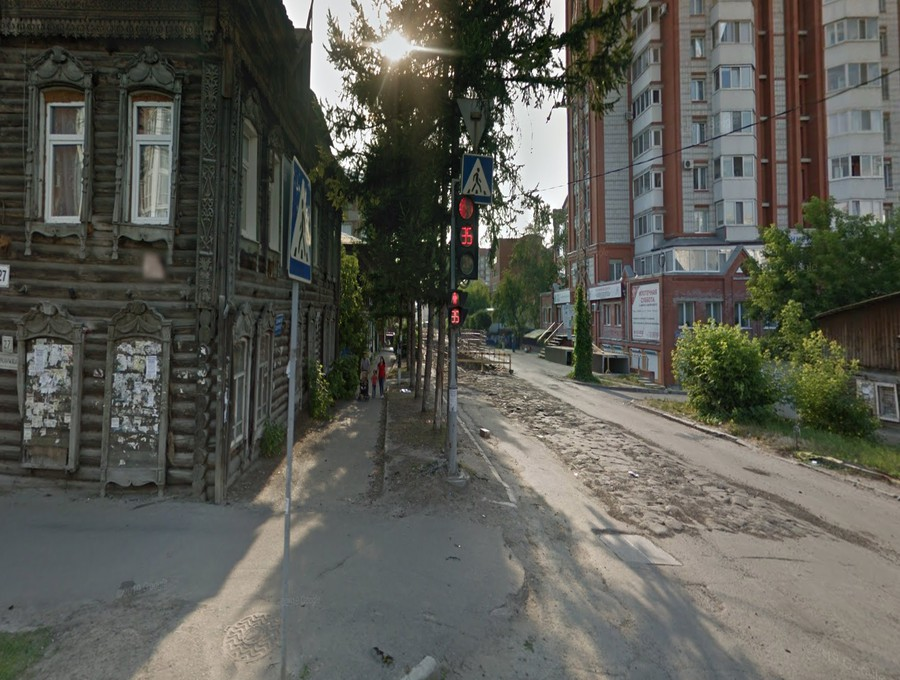Traffic Light-red: (446, 290, 465, 325)
